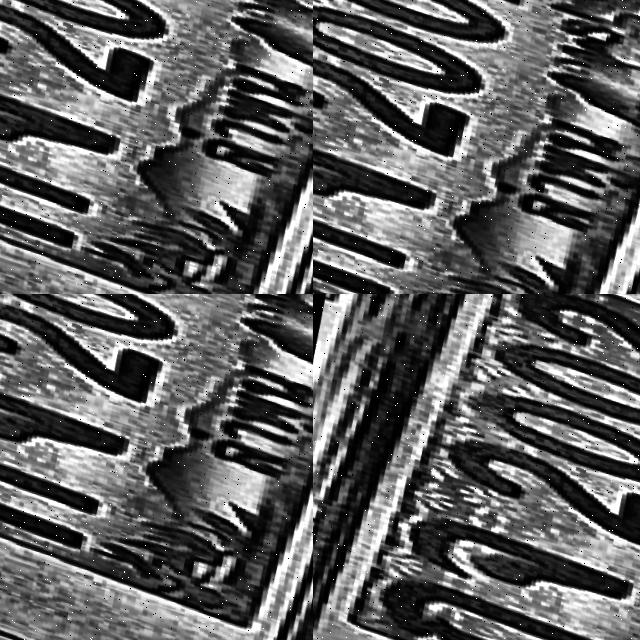license-plate: (313, 294, 640, 640), (0, 0, 267, 294), (0, 294, 158, 640), (546, 145, 638, 213)
